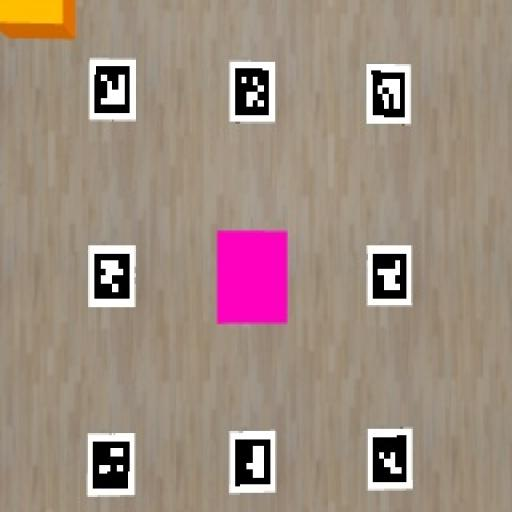car: (218, 231, 287, 324)
fire: (0, 0, 76, 38)
